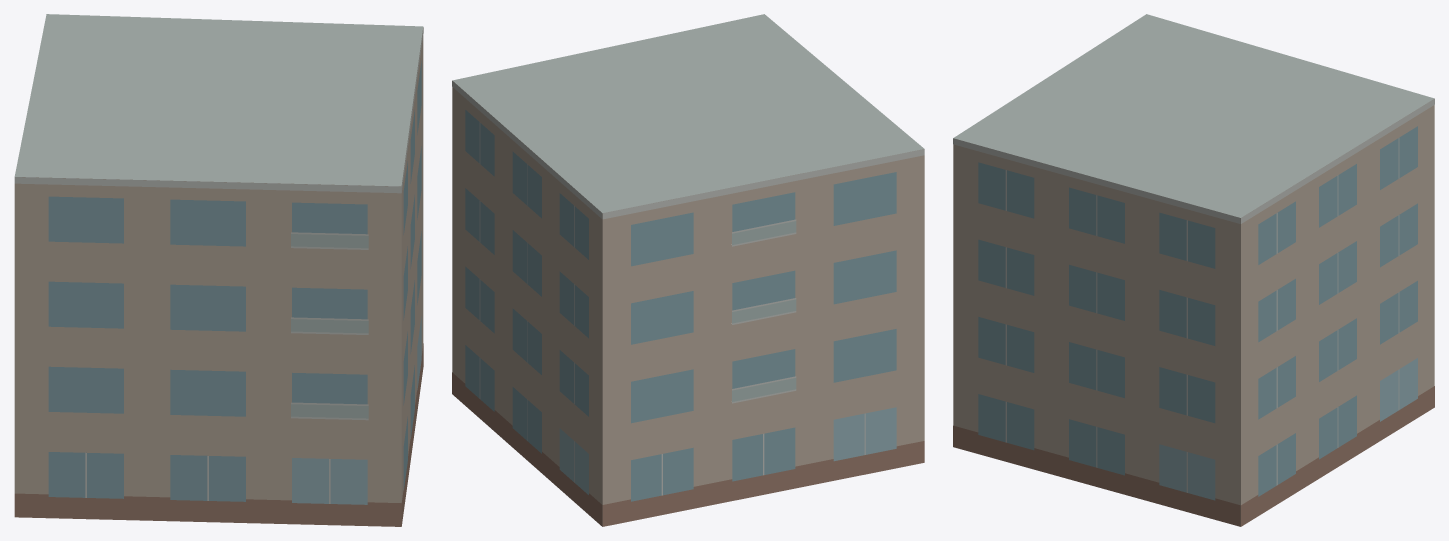
File: survey-upis-33024112.glb
3 views of the same model, side by side, from view 1: azimuth 30°, elevation 25°; view 2: azimuth 150°, elevation 25°; view 3: azimuth 270°, elevation 25° (orthographic). The views are drawn at different scales.
Parts seen in each view (by area): view 1: survey-upis-33024112.tmp; view 2: survey-upis-33024112.tmp; view 3: survey-upis-33024112.tmp.
Boxes of the visible parts, left/top/right/bottom form: survey-upis-33024112.tmp: left=14, top=14, right=423, bottom=526; survey-upis-33024112.tmp: left=452, top=14, right=924, bottom=526; survey-upis-33024112.tmp: left=953, top=14, right=1434, bottom=526.
Size of the model in its own units: 17.29 by 12.2 by 17.25.
